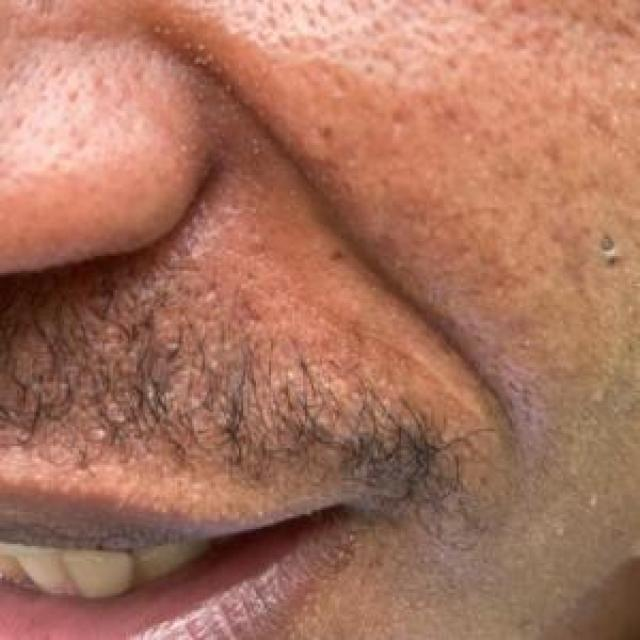Oily-Skin: (205, 0, 616, 98)
